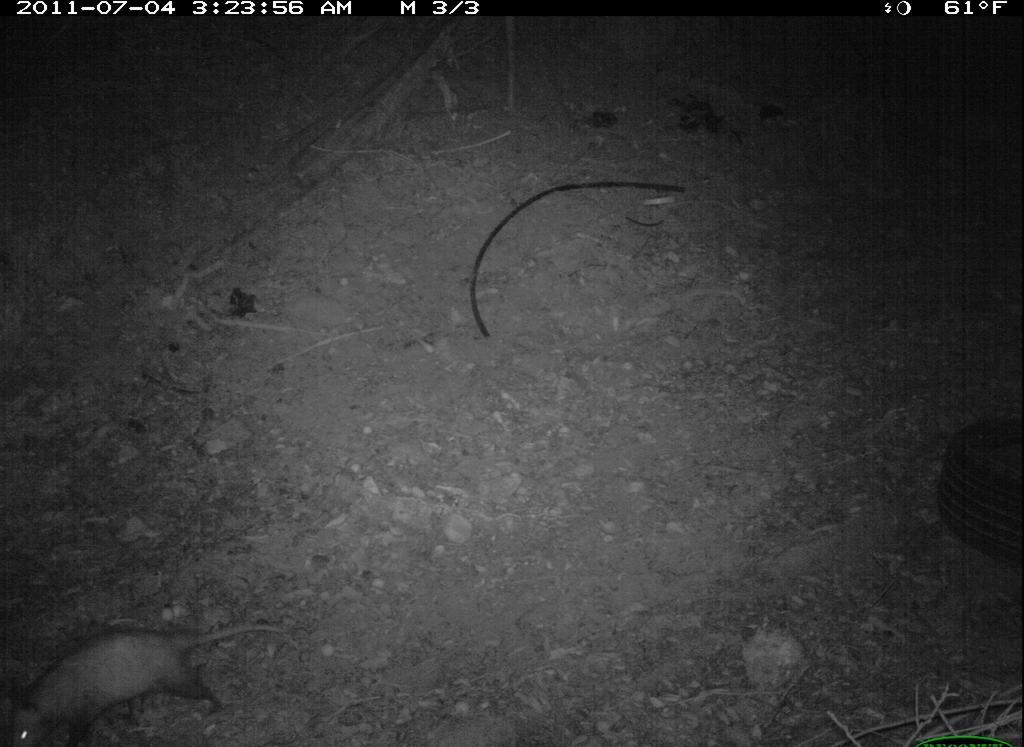opossum: (7, 621, 289, 747)
